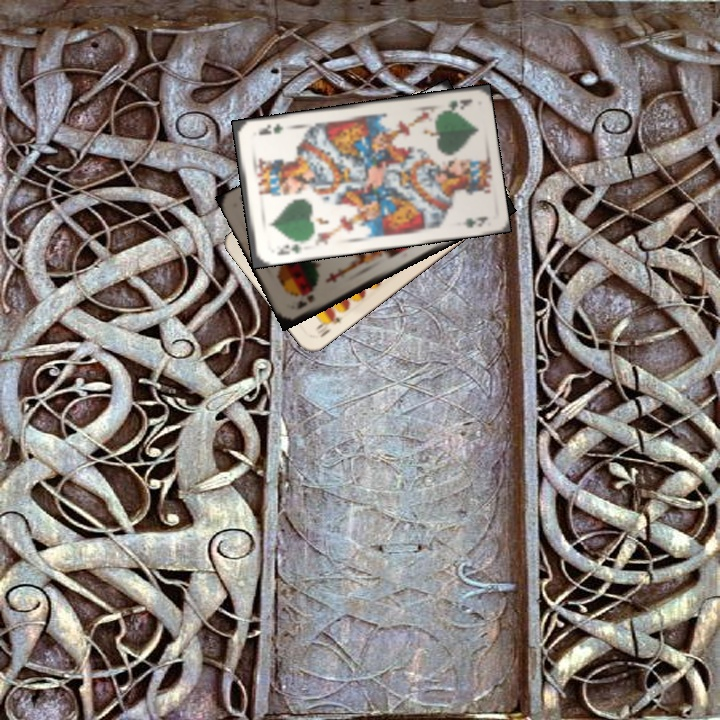E10: (312, 308, 343, 340)
GK: (438, 94, 475, 114), (273, 240, 304, 258)
SK: (293, 291, 316, 312)
